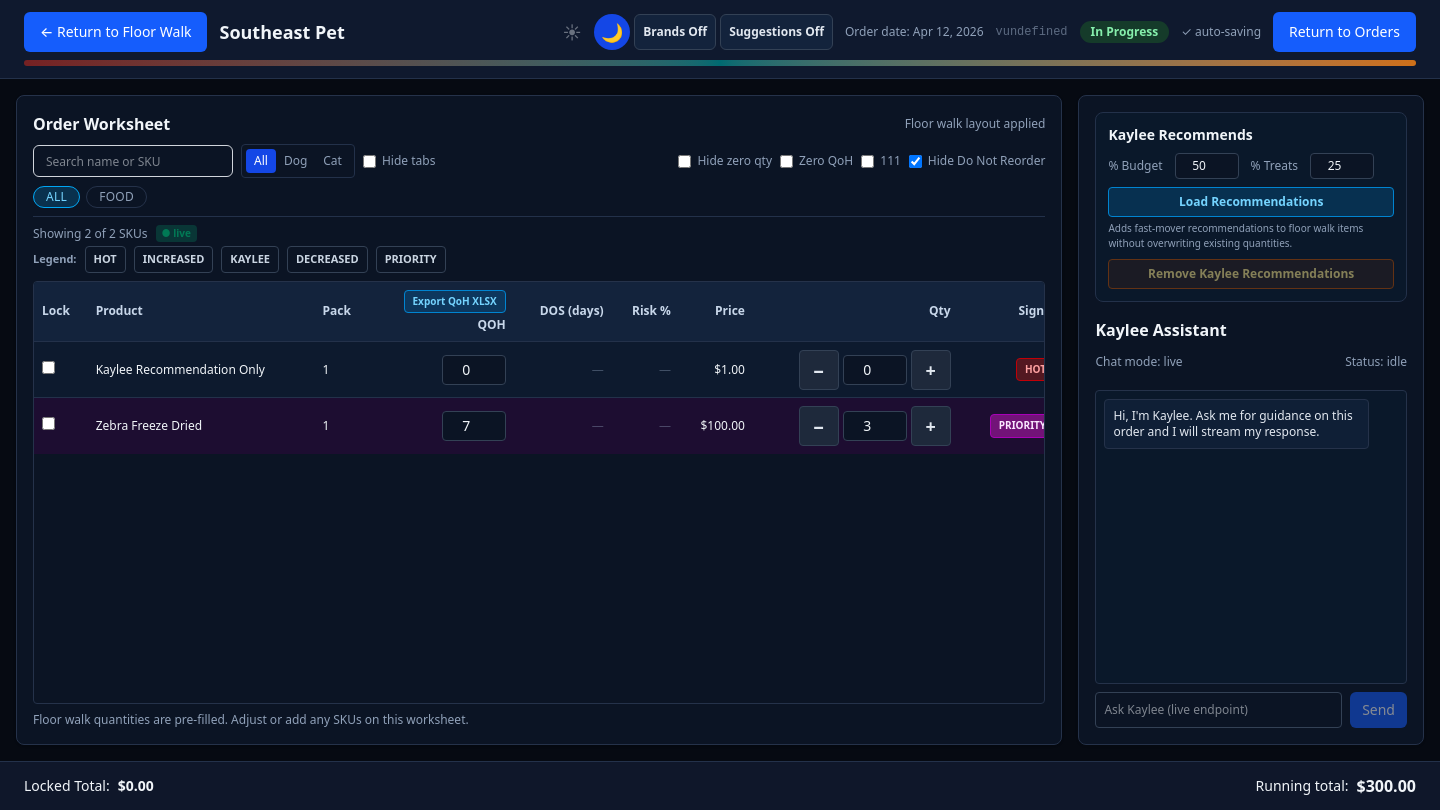
Test: OrderDetail — submit lifecycle › removes Kaylee recommendations without wiping persisted floor-walk quantities
Check: the text "Zebra Freeze Dried" is shown, box [96, 417, 202, 434]
Check: the number field showing "3" in the row of "Zebra Freeze Dried" is shown, box [843, 411, 907, 441]
Step 1. Click the button "Load Recommendations" → (1251, 202), box [1108, 187, 1394, 217]
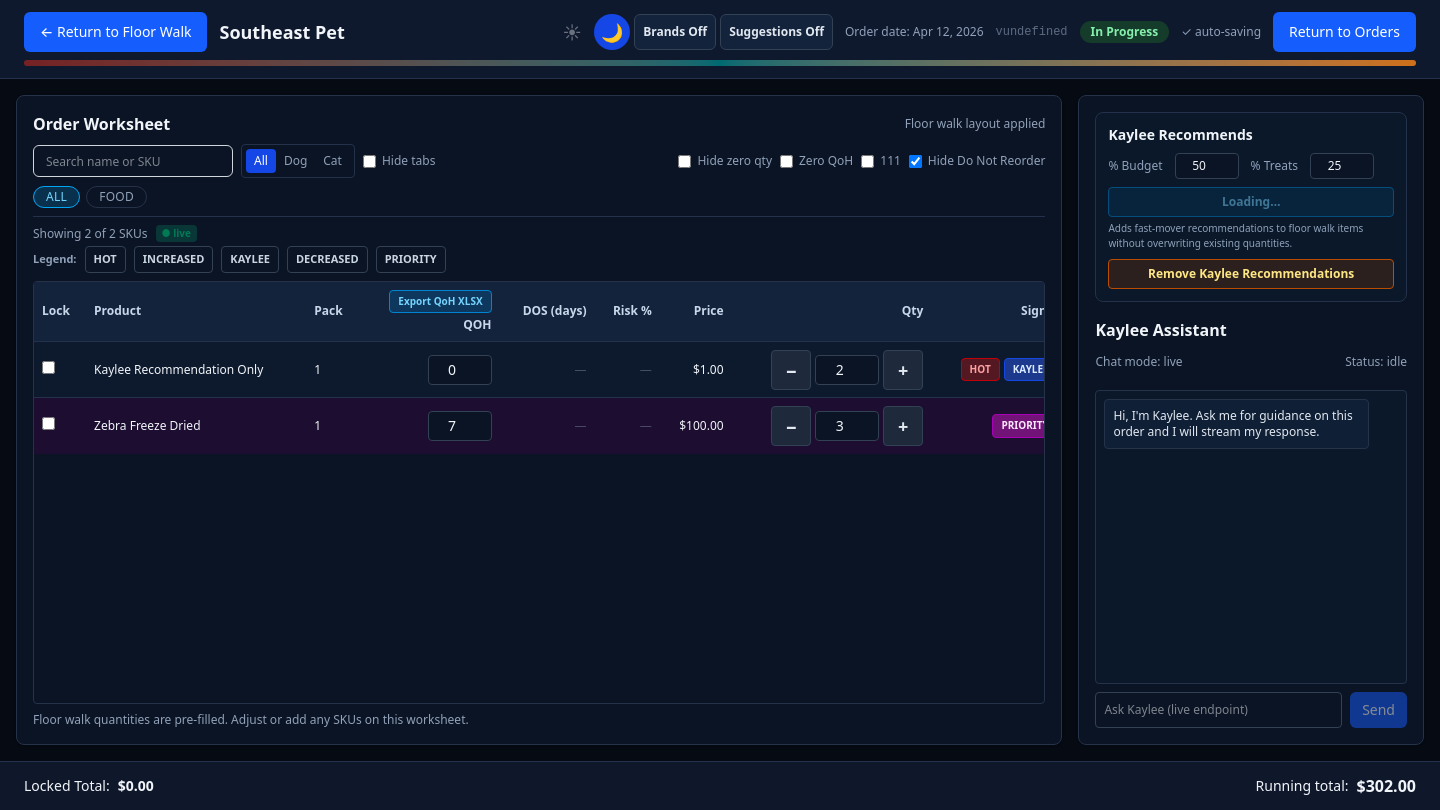
Check: the text "Kaylee Recommendation Only" is shown, box [94, 361, 263, 378]
Check: the number field showing "2" in the row of "Kaylee Recommendation Only" is shown, box [815, 355, 879, 385]
Step 2. Click the button "Remove Kaylee Recommendations" → (1251, 274), box [1108, 259, 1394, 289]
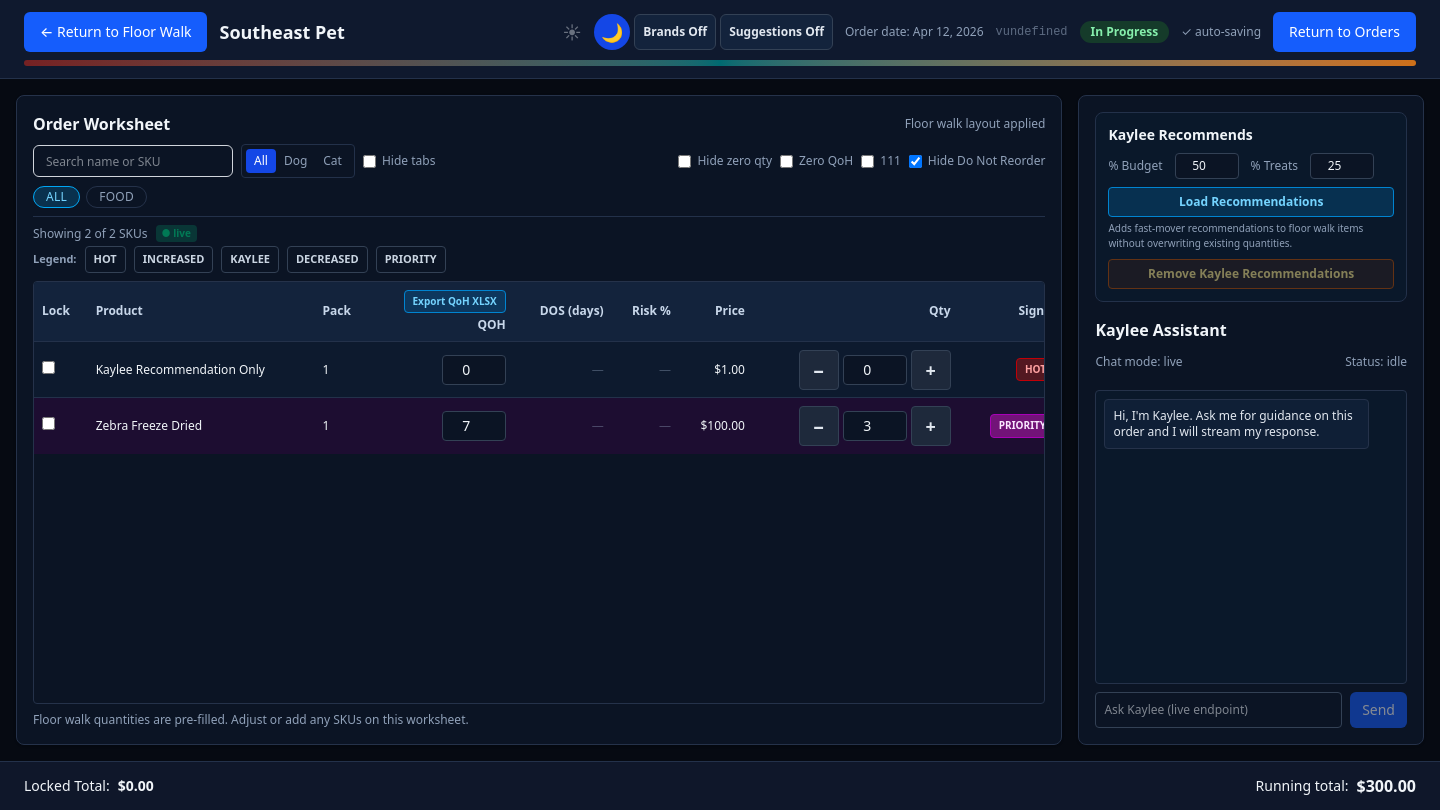
Check: the text "Zebra Freeze Dried" is shown, box [96, 417, 202, 434]
Check: the number field in the row of "Kaylee Recommendation Only" holds "0", box [843, 355, 907, 385]
